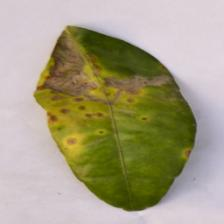canker: (36, 34, 151, 144)
